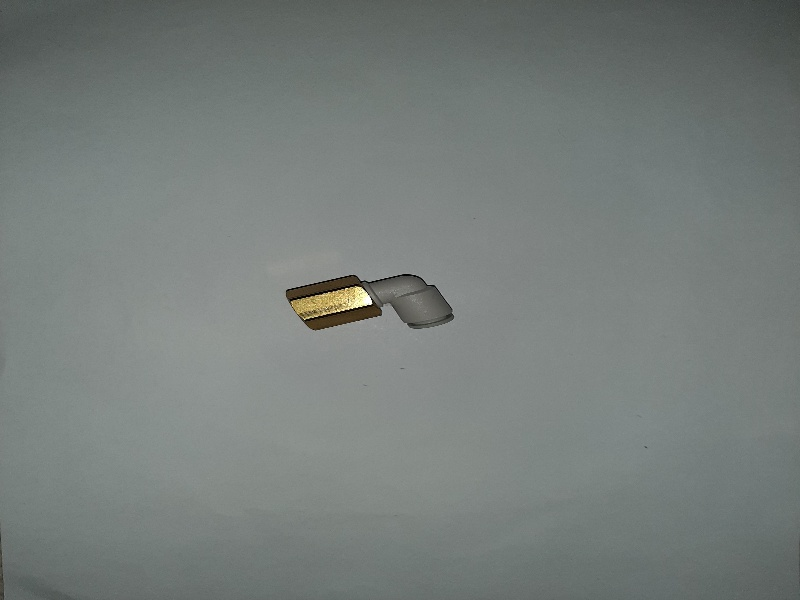Connector: (285, 261, 464, 338)
